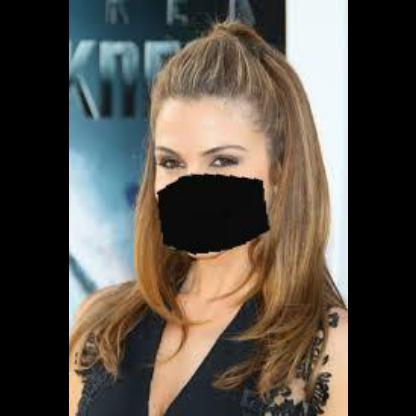Fabric/Cloth Mask: (150, 108, 266, 252)
